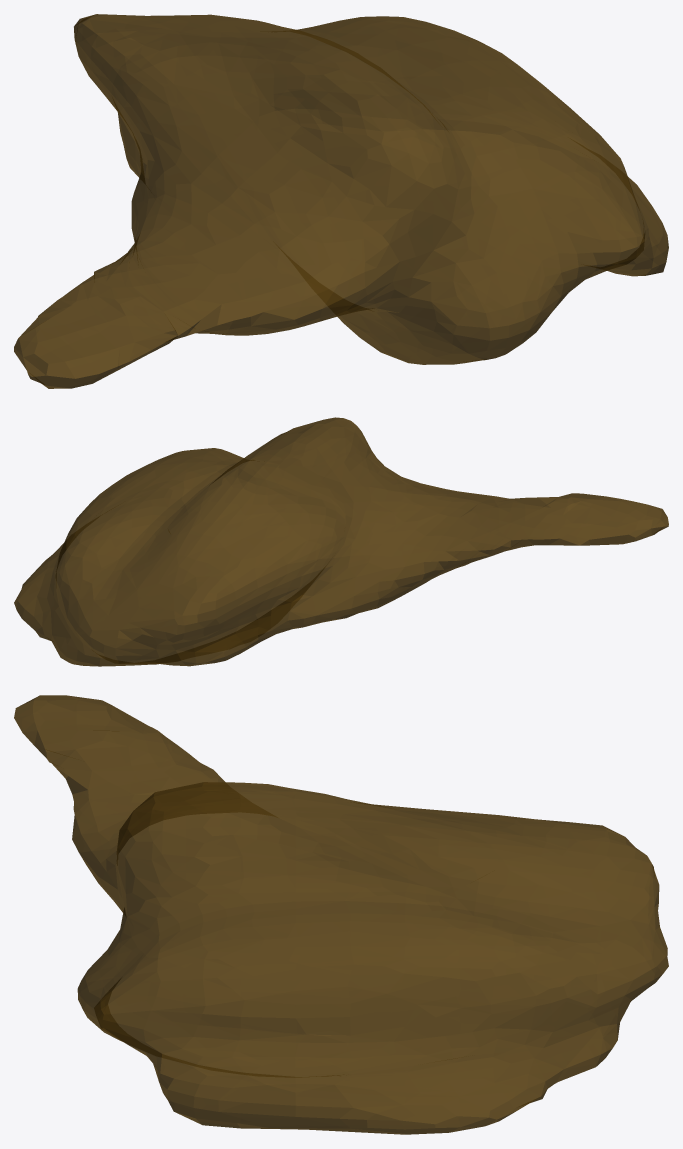
Rendered from AngelsDust5.glb.
The picture shows the model from 3 angles, top to bottom: view 1: azimuth 30°, elevation 25°; view 2: azimuth 150°, elevation 25°; view 3: azimuth 270°, elevation 25°; orthographic projection. The views are drawn at different scales.
Parts seen in each view (by area): view 1: AngelsDust5; view 2: AngelsDust5; view 3: AngelsDust5.
Part boxes in pixels (x1,y1,x2,y2): AngelsDust5: (14,14,668,388); AngelsDust5: (14,417,668,666); AngelsDust5: (14,695,668,1134).
Bounding box in the file's own units: 174 × 64.75 × 148.
